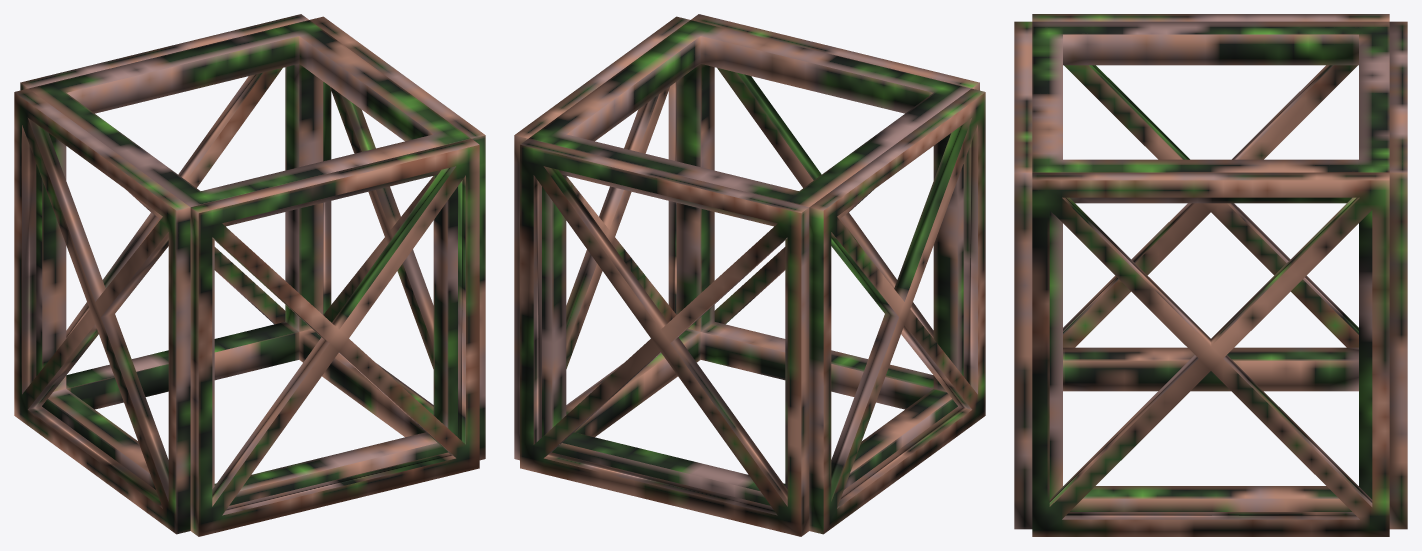
Rendered from Metal_Frame_4_Algae6.obj.
The picture shows the model from 3 angles, left to right: view 1: azimuth 30°, elevation 25°; view 2: azimuth 150°, elevation 25°; view 3: azimuth 270°, elevation 25°; orthographic projection. The views are drawn at different scales.
Visible parts, largest first — view 1: metal_frame; view 2: metal_frame; view 3: metal_frame.
Part boxes in pixels (left/top/right/bottom): metal_frame: left=14, top=14, right=485, bottom=536; metal_frame: left=514, top=14, right=985, bottom=536; metal_frame: left=1014, top=14, right=1407, bottom=536.
Size of the model in its own units: 1 by 1 by 1.
1 material, 1 textured.
